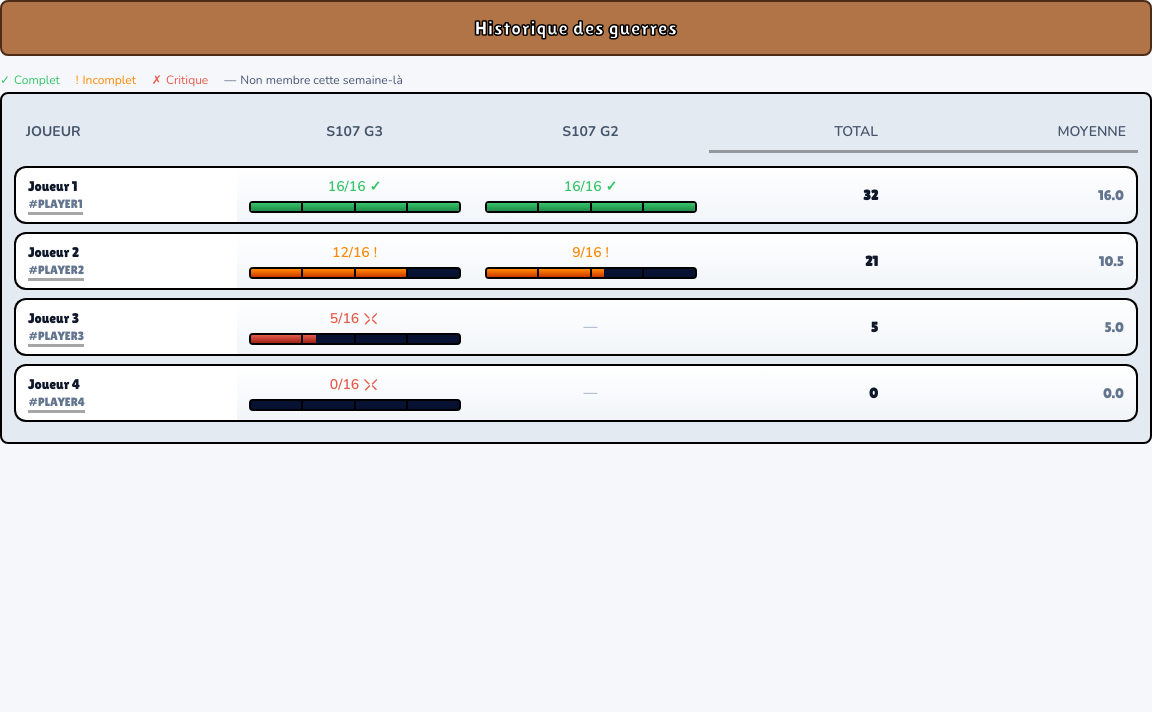
it: WarHistorySection › ouvre la fiche joueur au clic sur le code du joueur
Click the button "Joueur 1 #PLAYER1" at (55, 194), box [28,176,83,212]
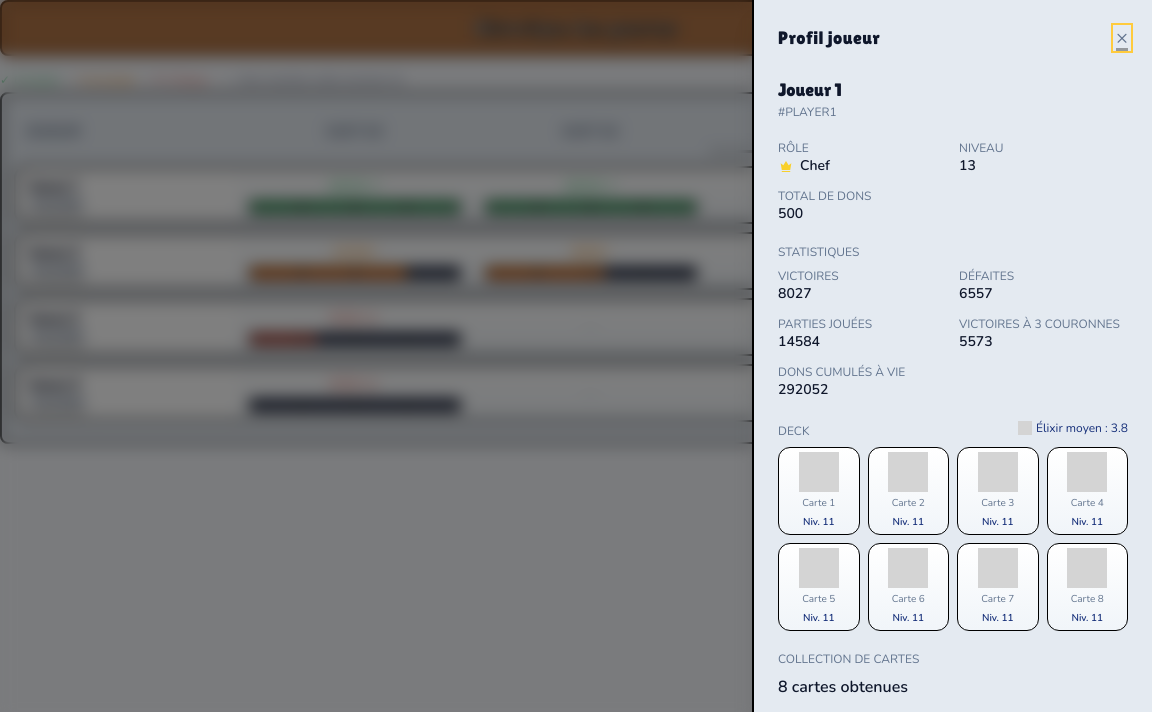
Now the text "500" is shown, box [778,204,803,223]
